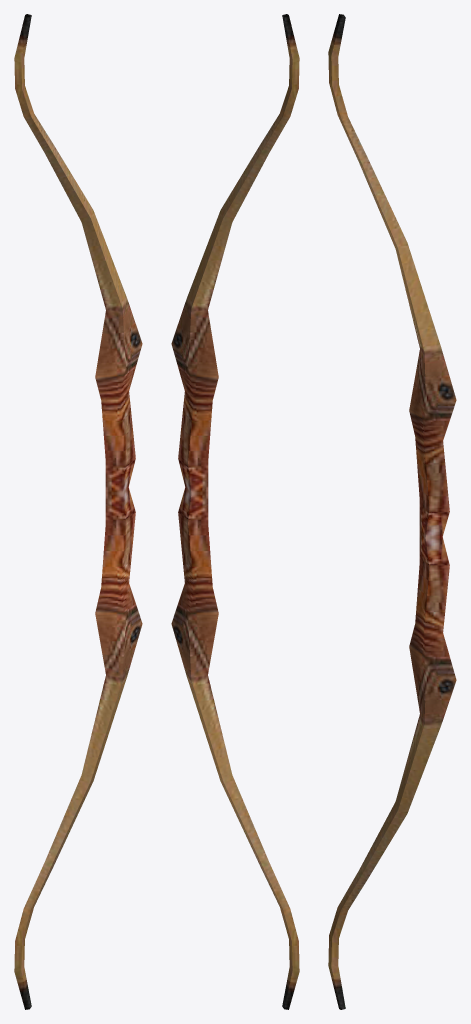
Rendered from Arrowspike.fbx.
The picture shows the model from 3 angles, left to right: view 1: azimuth 30°, elevation 25°; view 2: azimuth 150°, elevation 25°; view 3: azimuth 330°, elevation 25°; orthographic projection.
Parts seen in each view (by area): view 1: Arrowspike; view 2: Arrowspike; view 3: Arrowspike.
Boxes of the visible parts, x1,y1,x2,y2 form: Arrowspike: (14,14,142,1009); Arrowspike: (171,14,299,1009); Arrowspike: (328,14,456,1009).
Size of the model in its own units: 0.1155 by 0.8568 by 0.0207.
